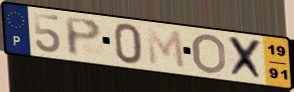0: (113, 22, 144, 66)
5: (32, 11, 62, 54)
M: (144, 25, 188, 72)
O: (191, 32, 228, 75)
P: (62, 15, 104, 59)
X: (227, 35, 266, 83)
